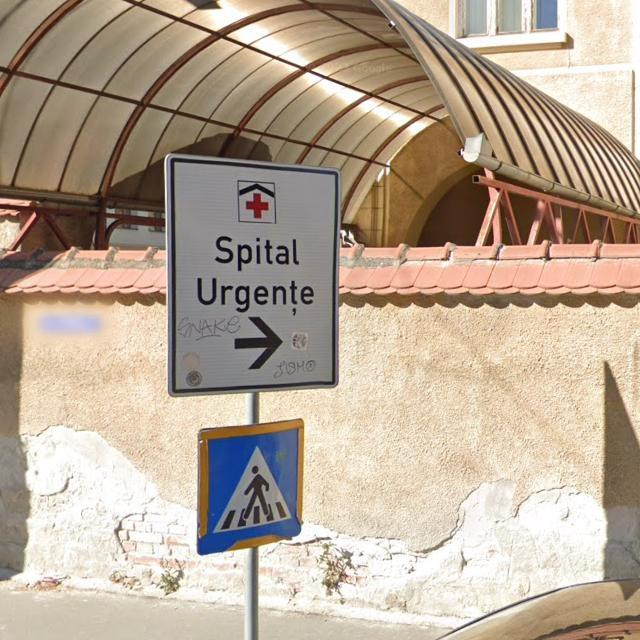info_crosswalk: (196, 417, 304, 553)
